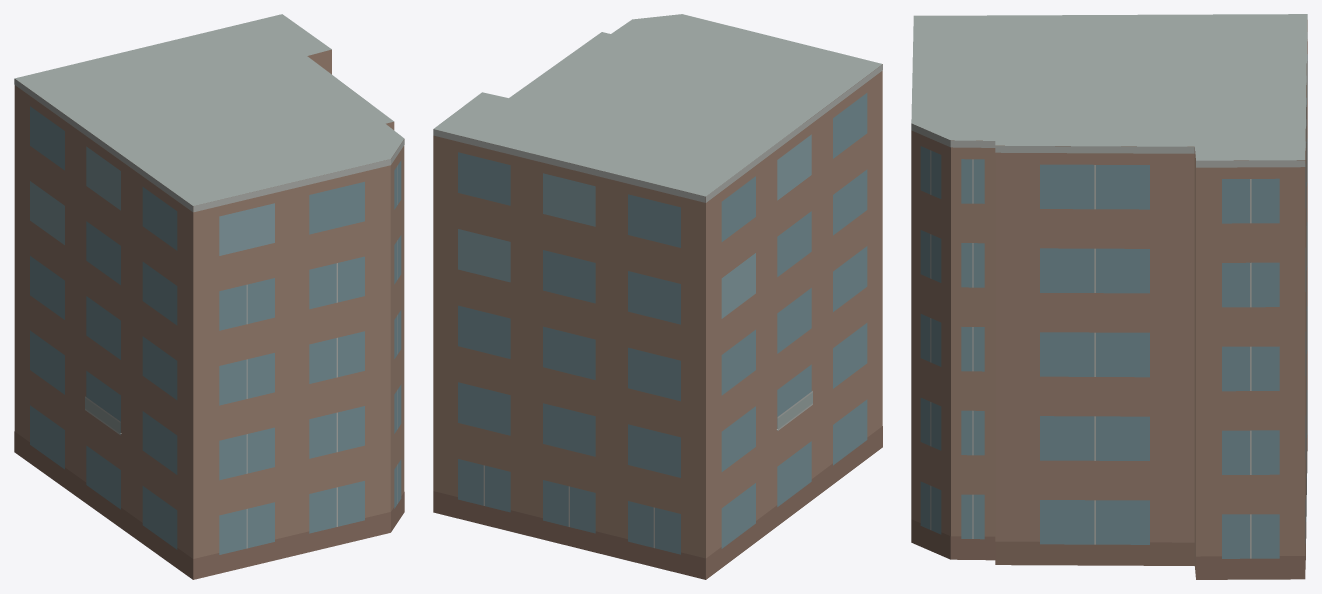
File: survey-upis-32933338.glb
The picture shows the model from 3 angles, left to right: view 1: azimuth 30°, elevation 25°; view 2: azimuth 150°, elevation 25°; view 3: azimuth 270°, elevation 25°; orthographic projection. The views are drawn at different scales.
Parts seen in each view (by area): view 1: survey-upis-32933338.tmp; view 2: survey-upis-32933338.tmp; view 3: survey-upis-32933338.tmp.
Part boxes in pixels (<box>): survey-upis-32933338.tmp: <box>14,14,404,579</box>; survey-upis-32933338.tmp: <box>433,14,882,579</box>; survey-upis-32933338.tmp: <box>911,14,1307,579</box>.
Size of the model in its own units: 10.89 by 14.5 by 12.43.
